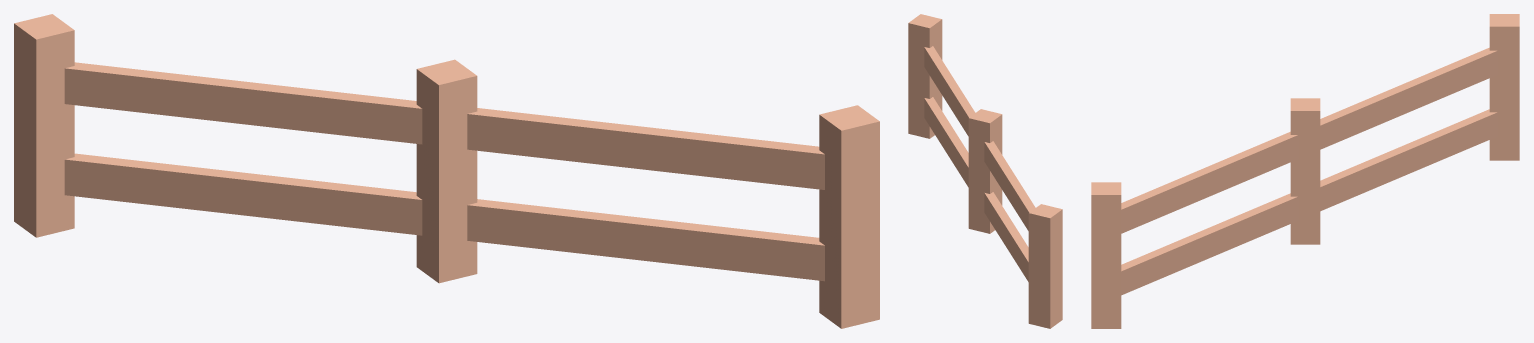
Rendered from fence_simpleDiagonalCenter.glb.
3 views of the same model, side by side, from view 1: azimuth 30°, elevation 25°; view 2: azimuth 150°, elevation 25°; view 3: azimuth 270°, elevation 25° (orthographic). The views are drawn at different scales.
Parts seen in each view (by area): view 1: fence_simpleDiagonalCenter; view 2: fence_simpleDiagonalCenter; view 3: fence_simpleDiagonalCenter.
Part boxes in pixels (box(x1,y1,x2,y2)): fence_simpleDiagonalCenter: box(14, 14, 879, 328); fence_simpleDiagonalCenter: box(908, 14, 1062, 328); fence_simpleDiagonalCenter: box(1091, 14, 1519, 328).
Size of the model in its own units: 1 by 0.345 by 1.
